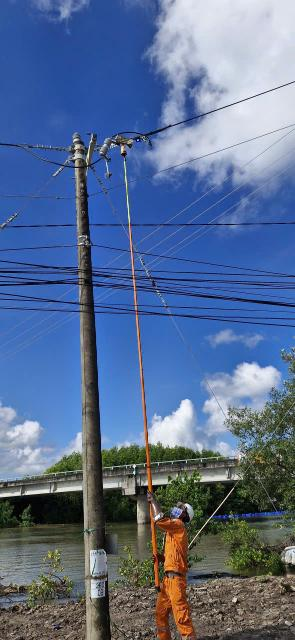gloves: (143, 489, 167, 528), (145, 551, 168, 565)
helmet: (177, 497, 203, 527)
